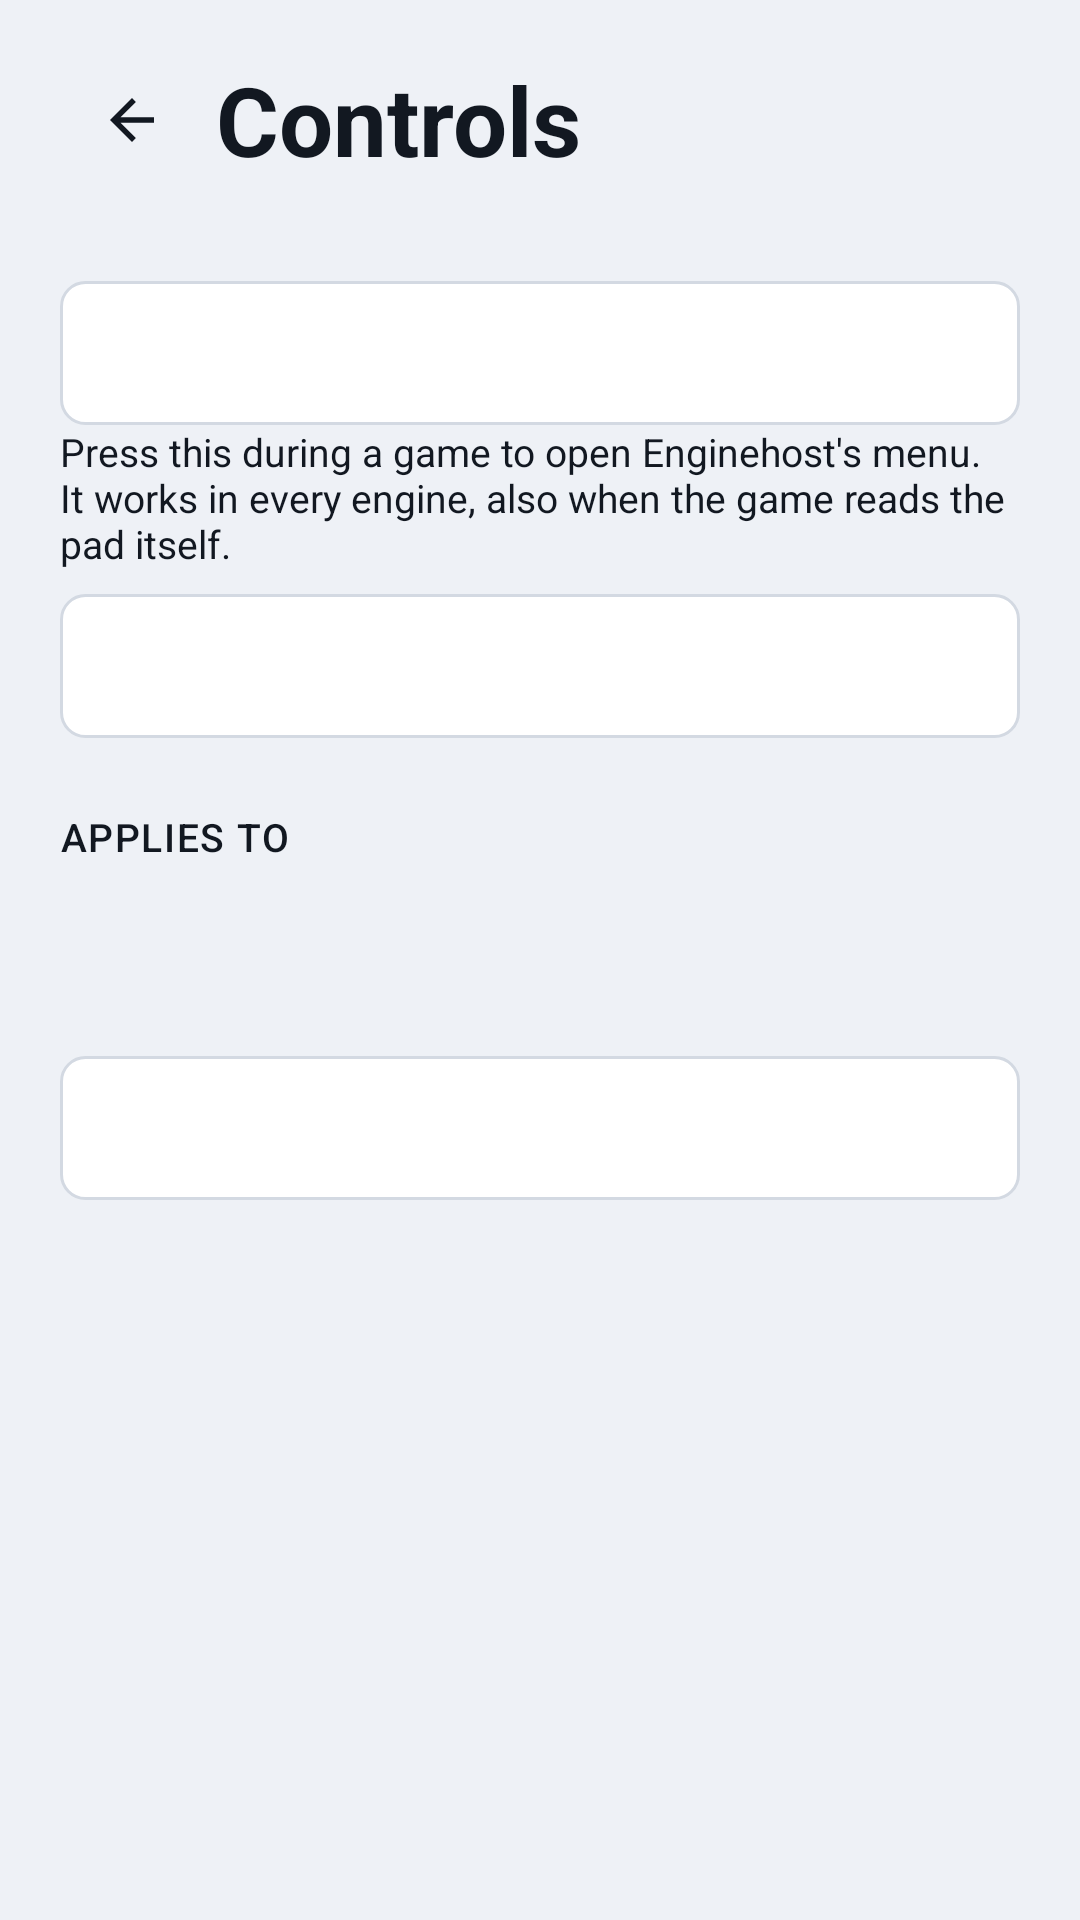

Icons on this 1080*1920 Android screen, each with the point to tap as [x,y]:
Back: [132,120]
